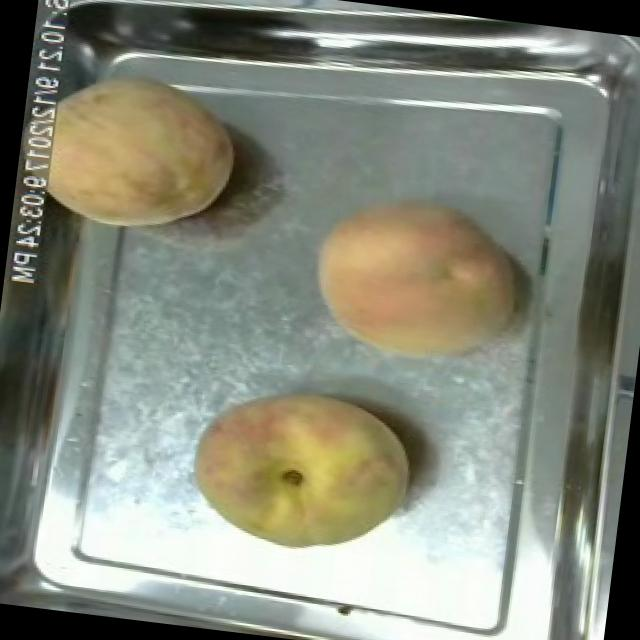Fruit: (178, 370, 424, 570), (296, 178, 530, 380), (36, 54, 250, 248)
